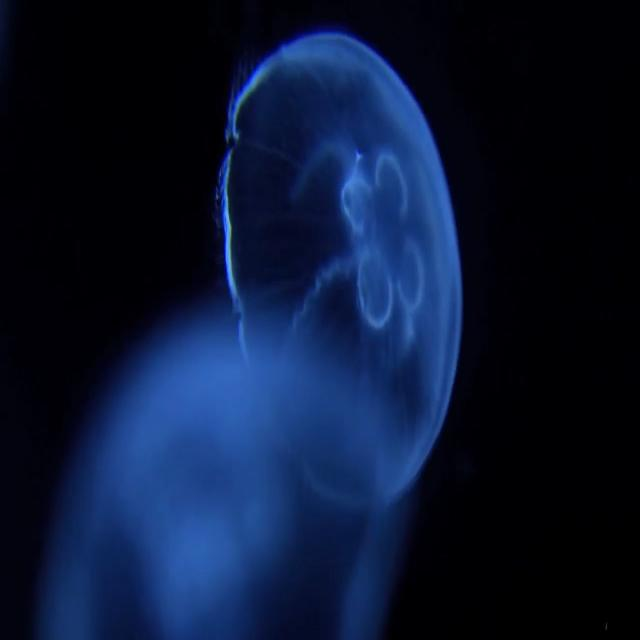Moon-jellyfish: (220, 55, 456, 513)
